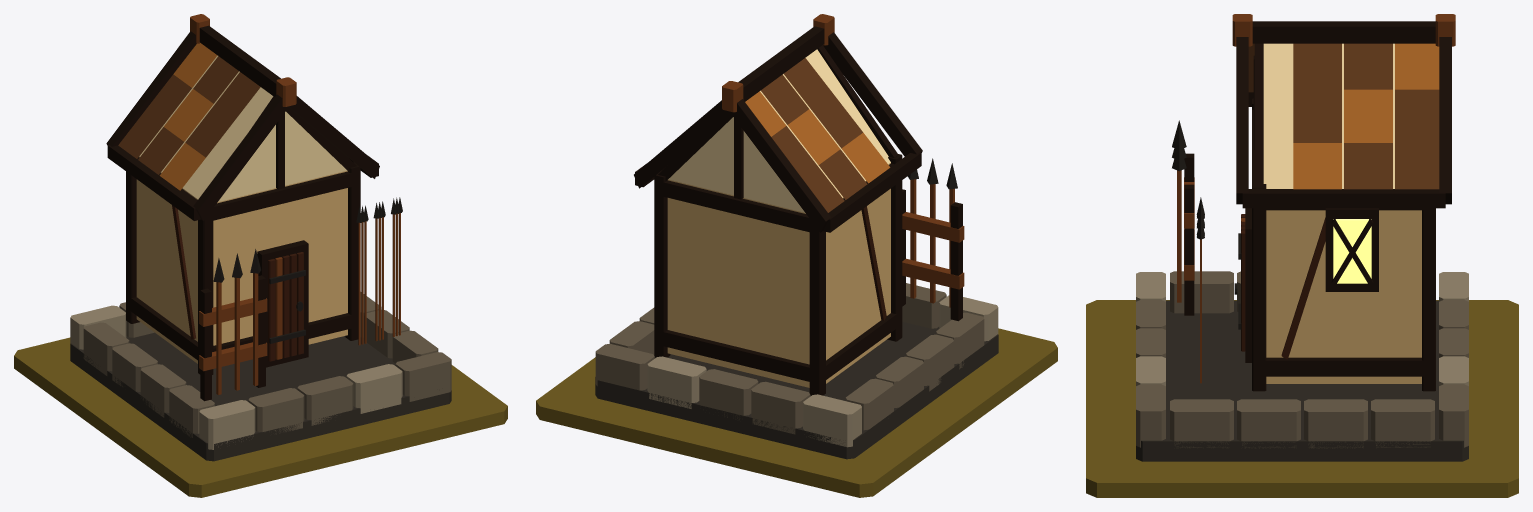
The model's file is fletcher_t1.glb.
The picture shows the model from 3 angles, left to right: view 1: azimuth 30°, elevation 25°; view 2: azimuth 150°, elevation 25°; view 3: azimuth 270°, elevation 25°; orthographic projection. The views are drawn at different scales.
Parts seen in each view (by area): view 1: MMR | fletcher | T01 Architecture.001, MMR | fletcher | Tier 01 Ground.001; view 2: MMR | fletcher | T01 Architecture.001, MMR | fletcher | Tier 01 Ground.001; view 3: MMR | fletcher | T01 Architecture.001, MMR | fletcher | Tier 01 Ground.001.
Boxes of the visible parts, <box> form: MMR | fletcher | T01 Architecture.001: <box>70,14,451,461</box>; MMR | fletcher | Tier 01 Ground.001: <box>14,337,507,497</box>; MMR | fletcher | T01 Architecture.001: <box>595,14,998,459</box>; MMR | fletcher | Tier 01 Ground.001: <box>536,328,1057,497</box>; MMR | fletcher | T01 Architecture.001: <box>1136,14,1468,461</box>; MMR | fletcher | Tier 01 Ground.001: <box>1086,300,1518,497</box>.
Size of the model in its own units: 1.3 by 1.29 by 1.3.
Materials: 2 (1 with a texture image).
